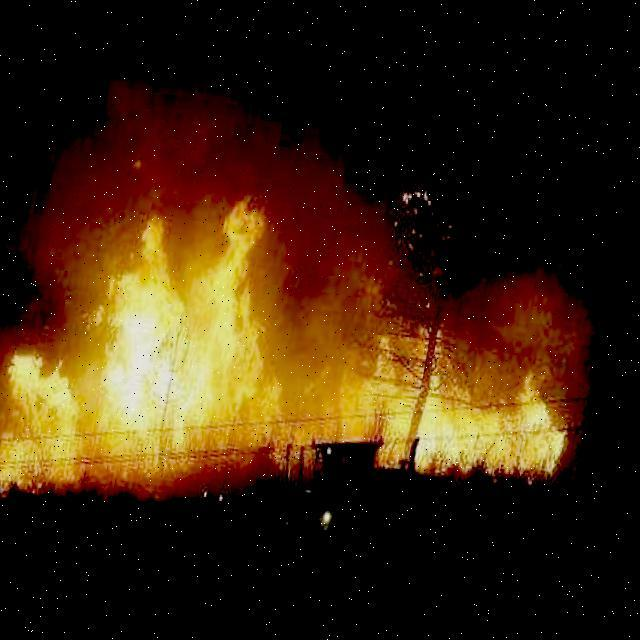Fire: (0, 160, 608, 550)
